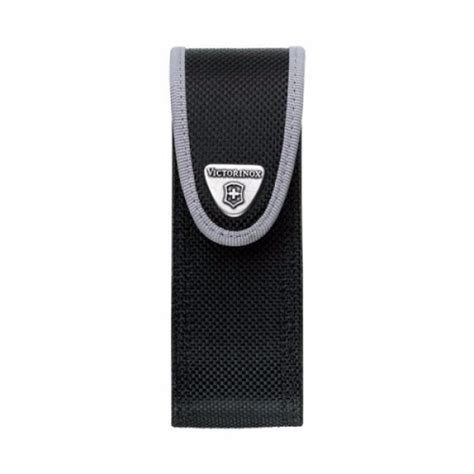nylon: (169, 46, 306, 429)
